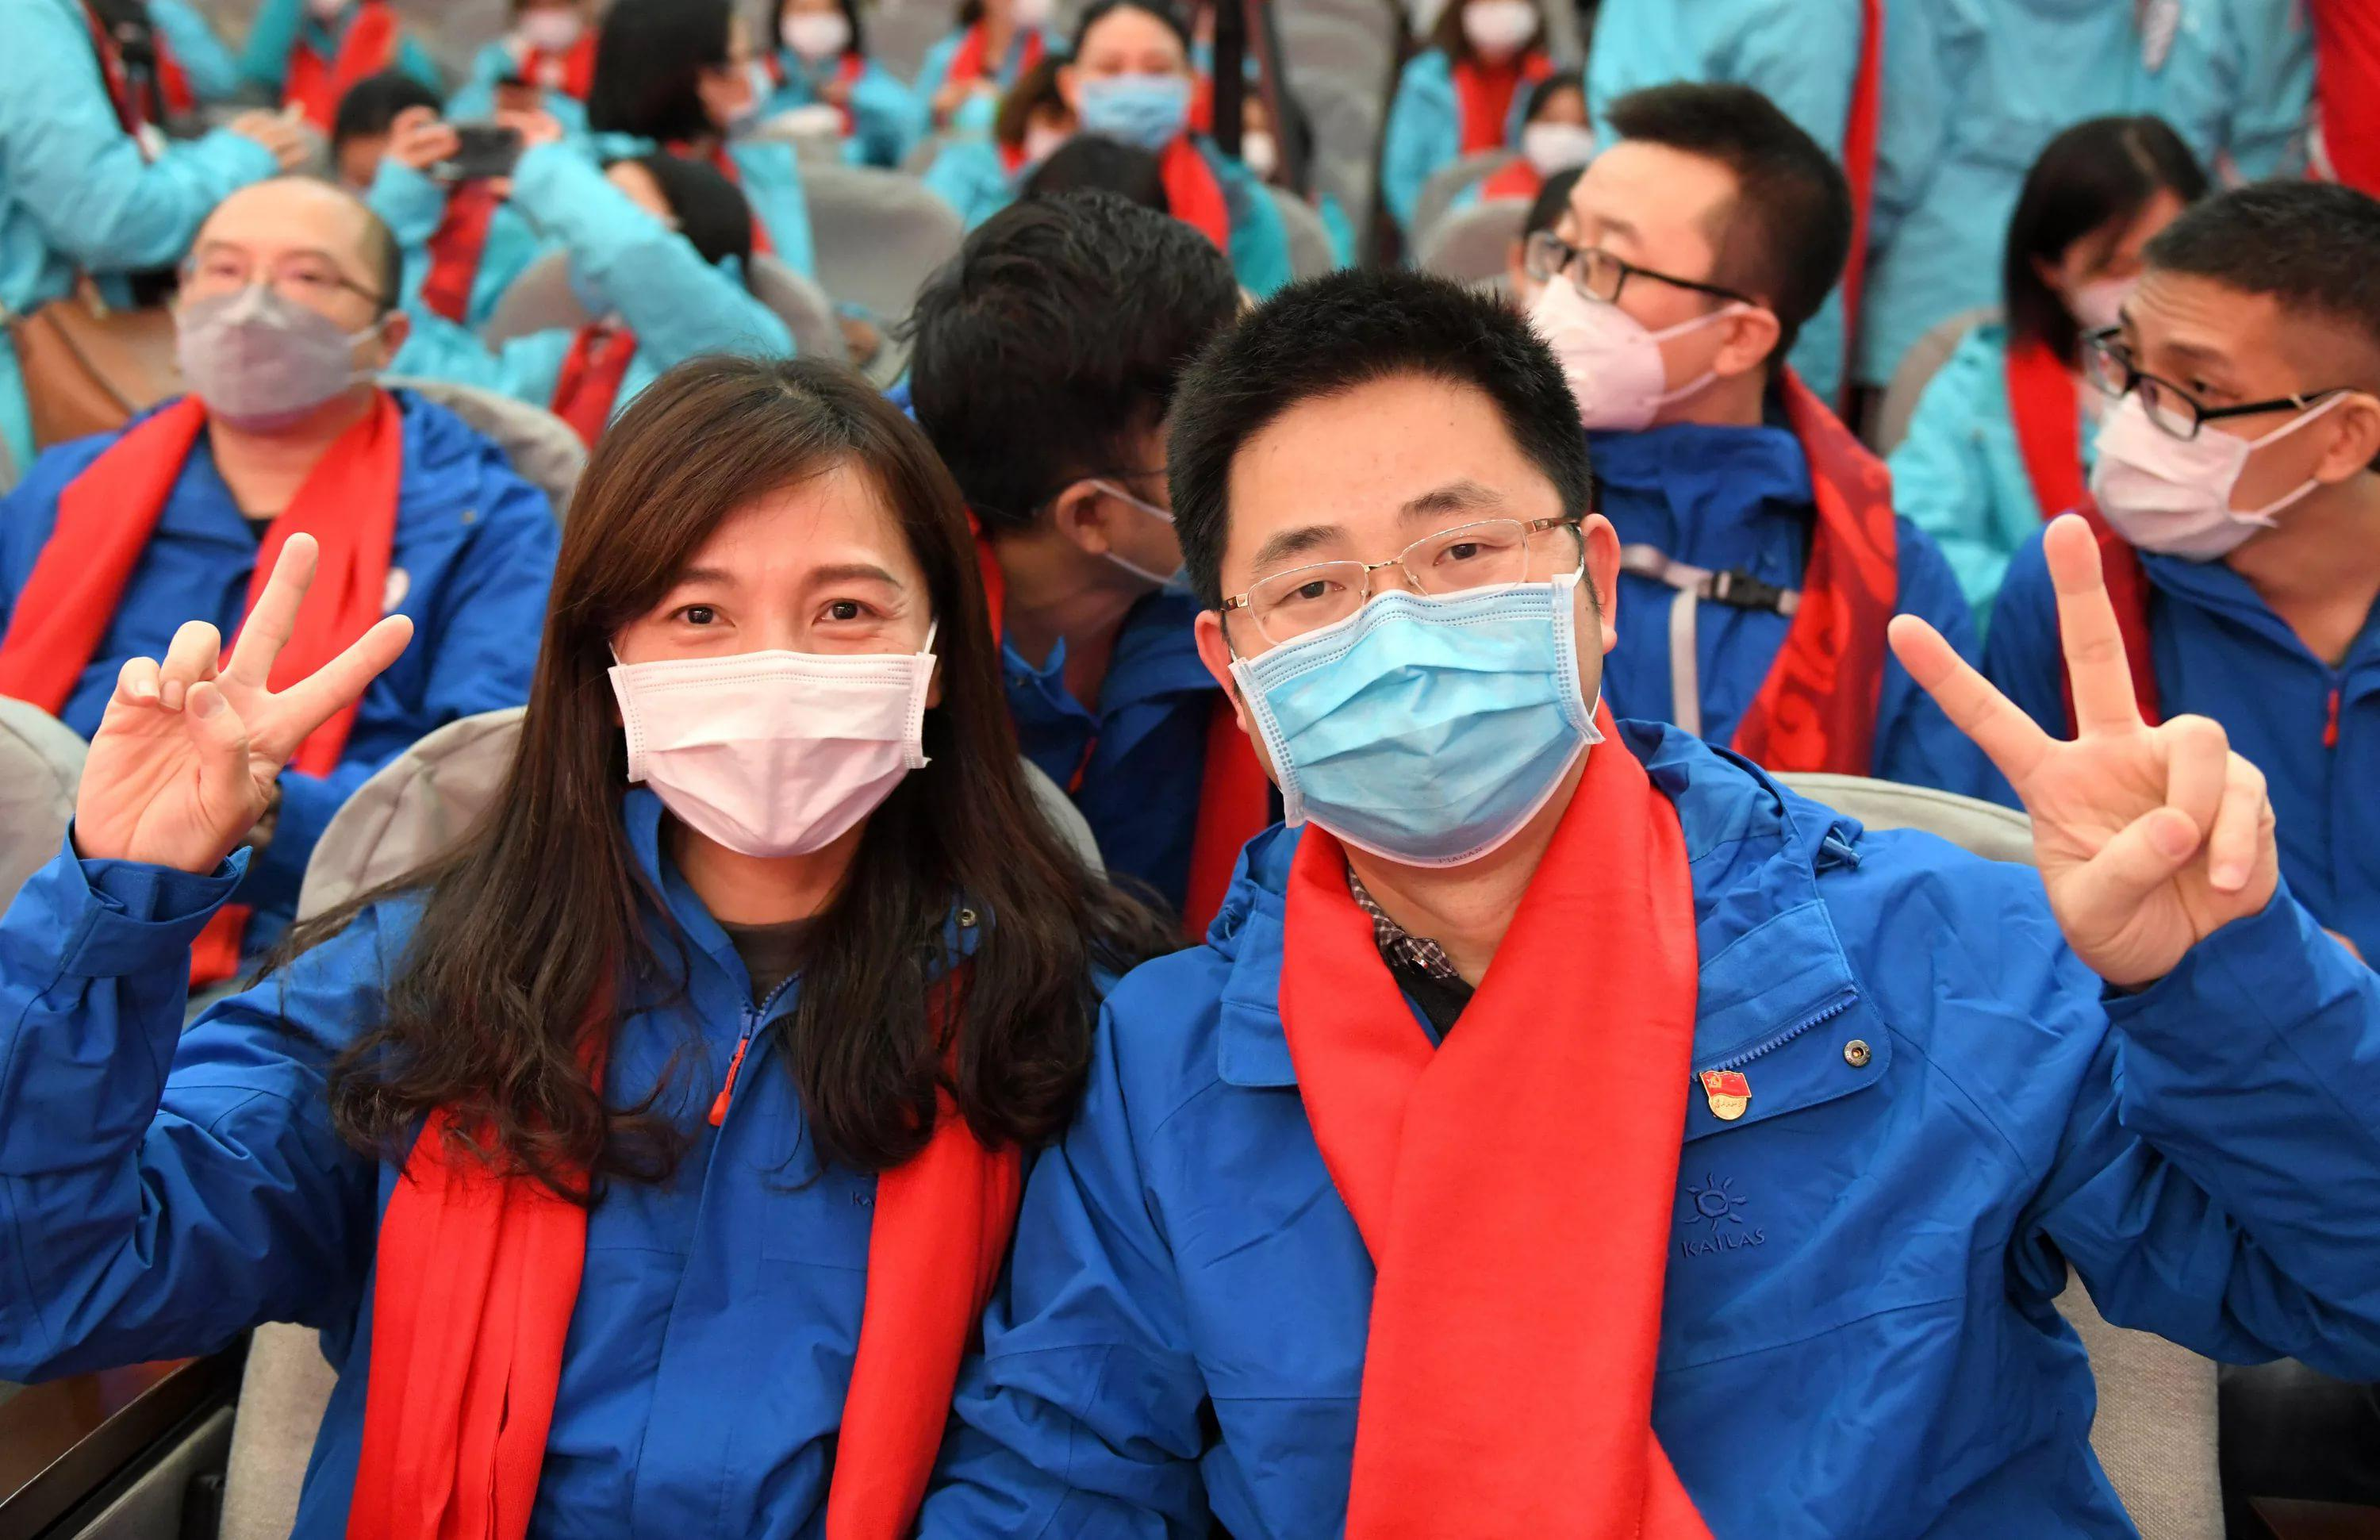mask: (1213, 399, 1575, 858), (618, 484, 940, 839), (2082, 248, 2361, 558), (1523, 158, 1769, 423), (187, 191, 371, 425), (1076, 10, 1180, 154)
